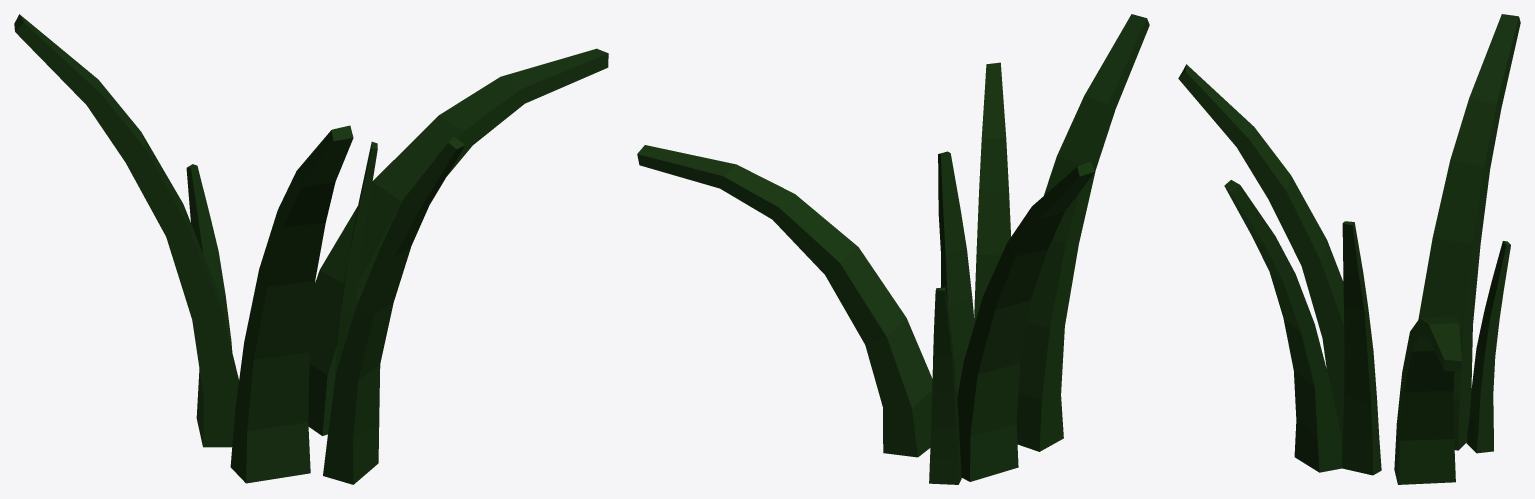
File: grass005_grass2_0_lev1.glb
The picture shows the model from 3 angles, left to right: view 1: azimuth 30°, elevation 25°; view 2: azimuth 150°, elevation 25°; view 3: azimuth 270°, elevation 25°; orthographic projection. The views are drawn at different scales.
Parts seen in each view (by area): view 1: grass005_grass2_0_lev1; view 2: grass005_grass2_0_lev1; view 3: grass005_grass2_0_lev1.
Boxes of the visible parts, x1,y1,x2,y2 form: grass005_grass2_0_lev1: (14,14,608,484); grass005_grass2_0_lev1: (637,14,1149,484); grass005_grass2_0_lev1: (1178,14,1520,484).
Bounding box in the file's own units: 0.3345 × 0.2436 × 0.2104.
